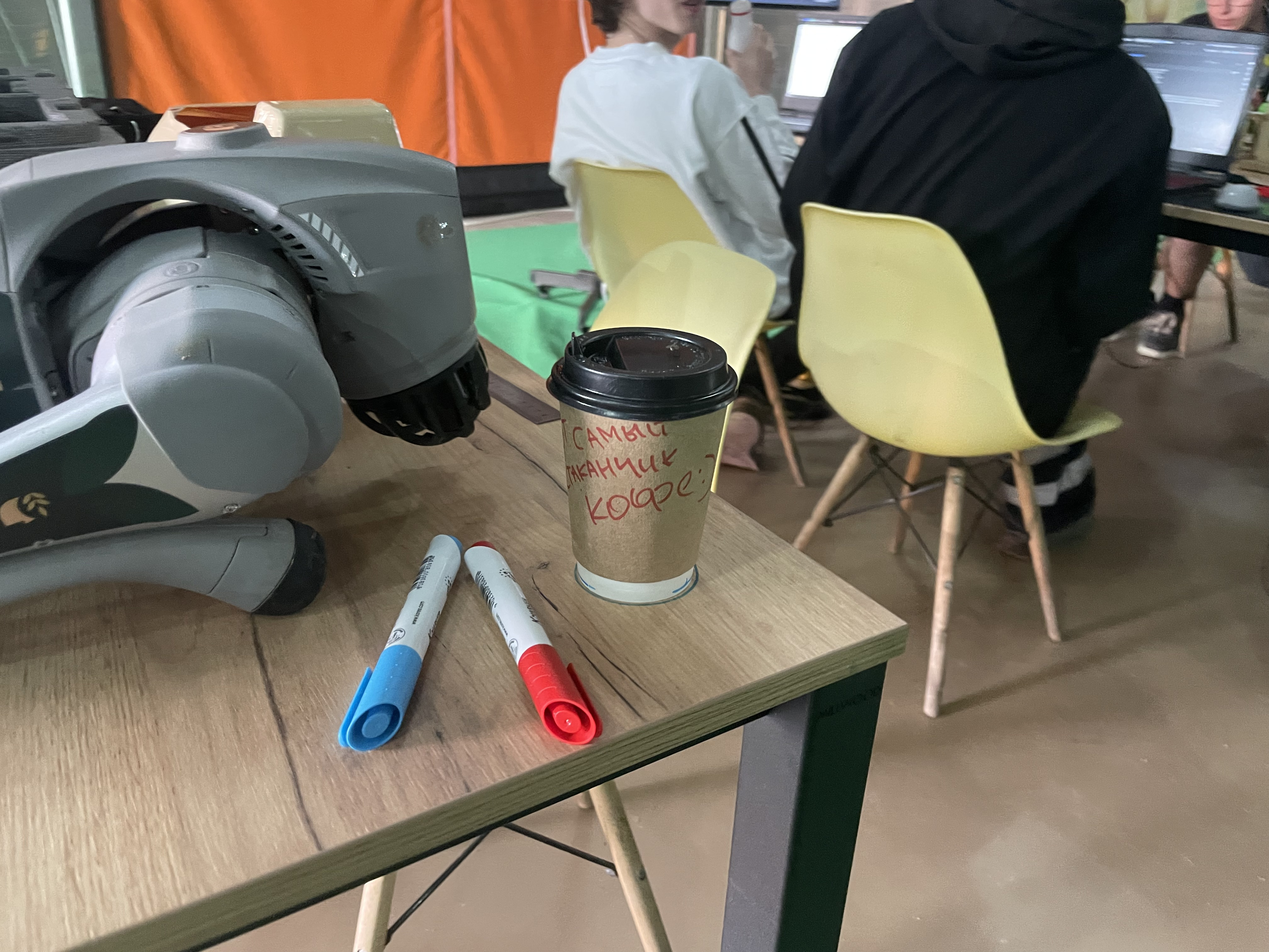cup: (546, 327, 739, 604)
